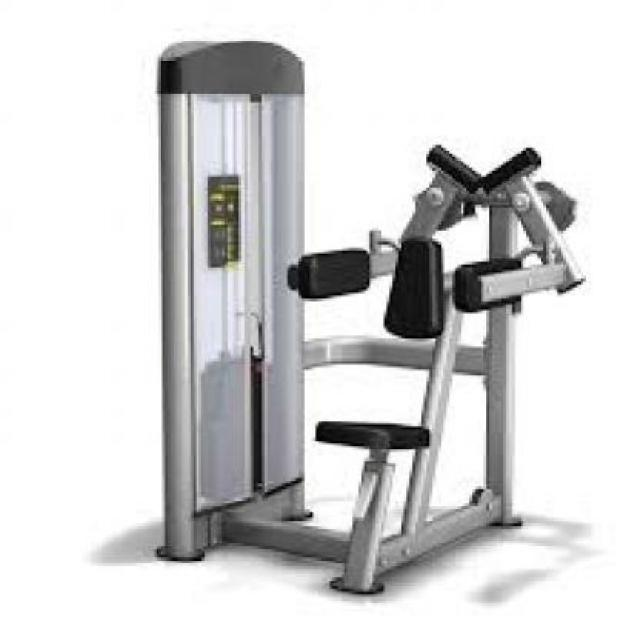lateral raises machine: (286, 146, 585, 600)
